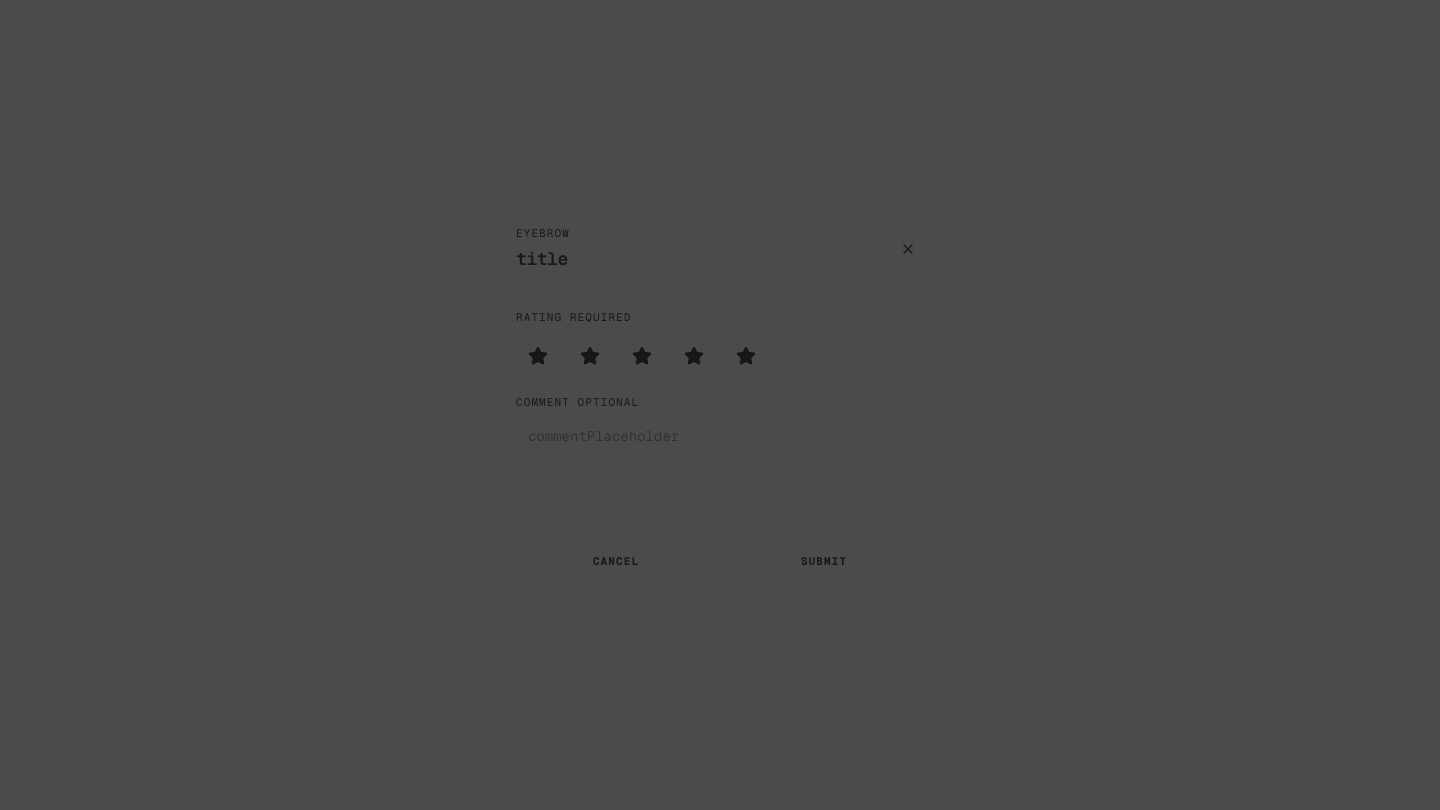
ReviewPrompt › does not submit without rating
Check: the text "Rating required" is shown, box [516,310,632,324]
Step 1. Click the button "Submit" → (824, 561), box [724,541,924,582]
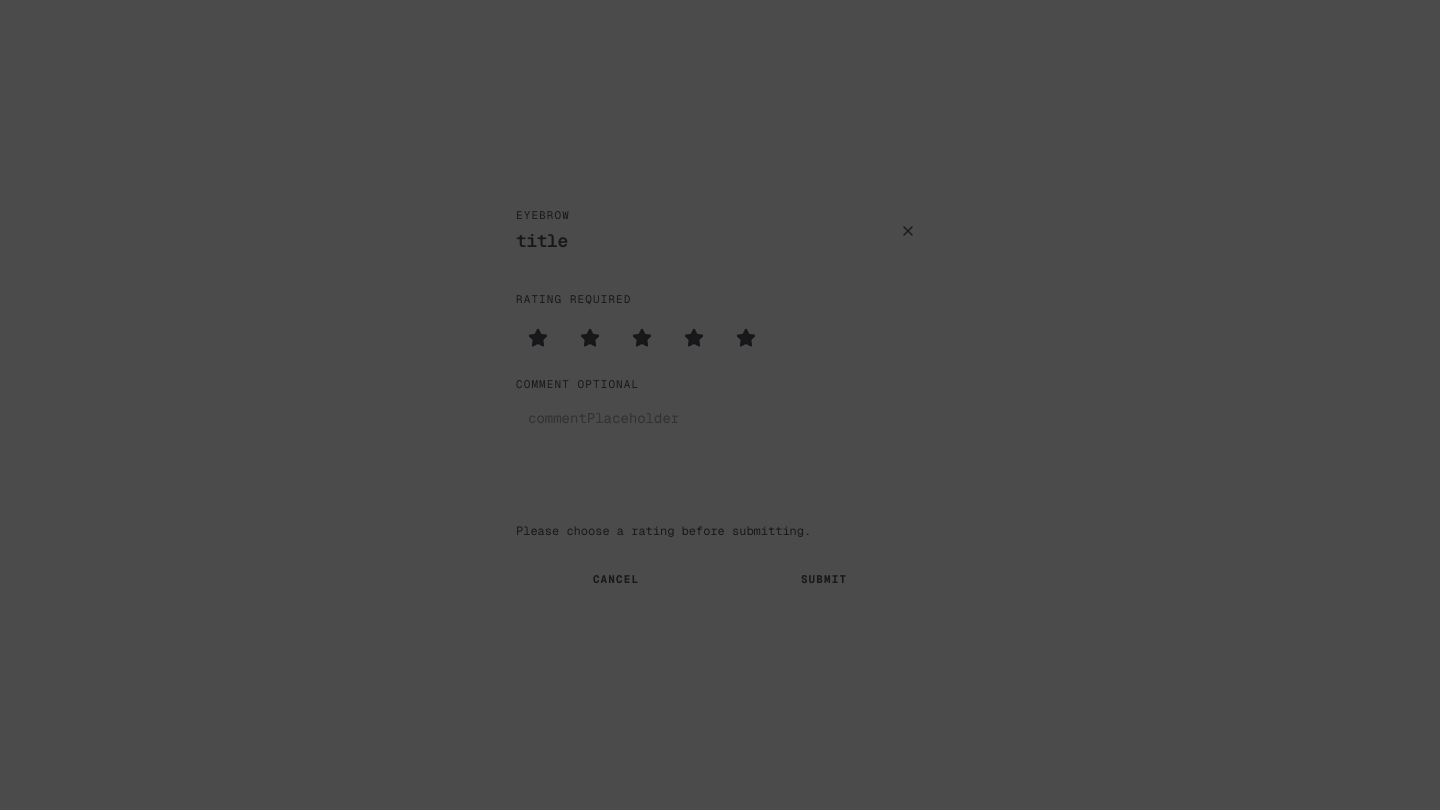
Check: the text "Please choose a rating before submitting." is shown, box [516,523,811,539]
